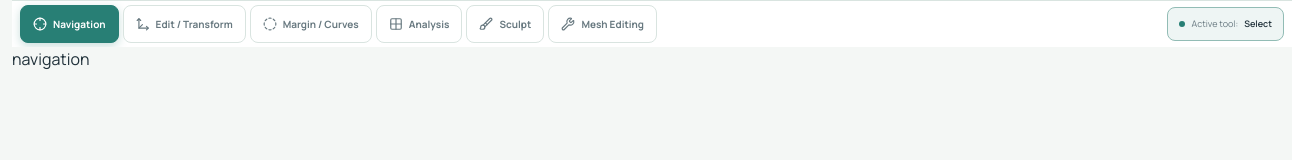
Test case: CAD workspace learning UX › changes tool category locally without selecting or changing CAD objects
What coordinates should you click on to do the following:
click the button "Sculpt"
I would click on:
 (505, 24)
Its box is [466,5,544,43].
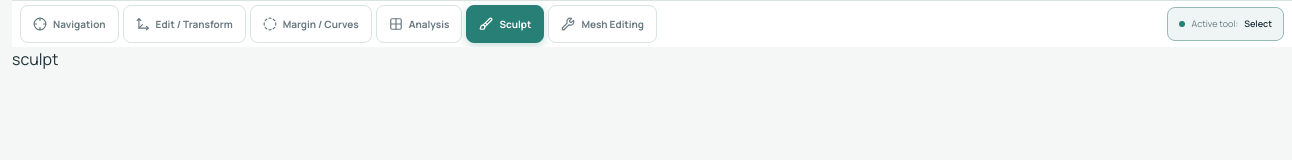
Expected: the text with test id "active-category" reads "sculpt", [12,48,58,70]
